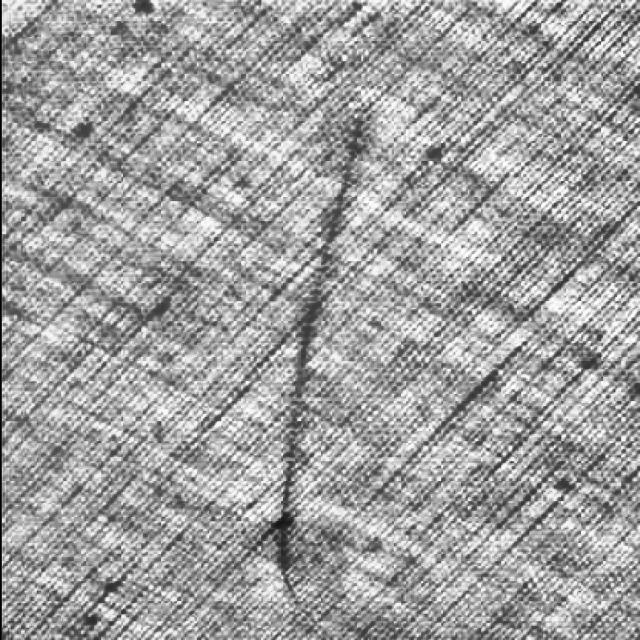thread_error: (262, 83, 386, 640)
